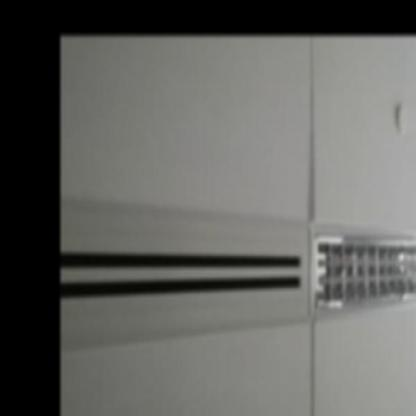light_off: (304, 204, 415, 324)
